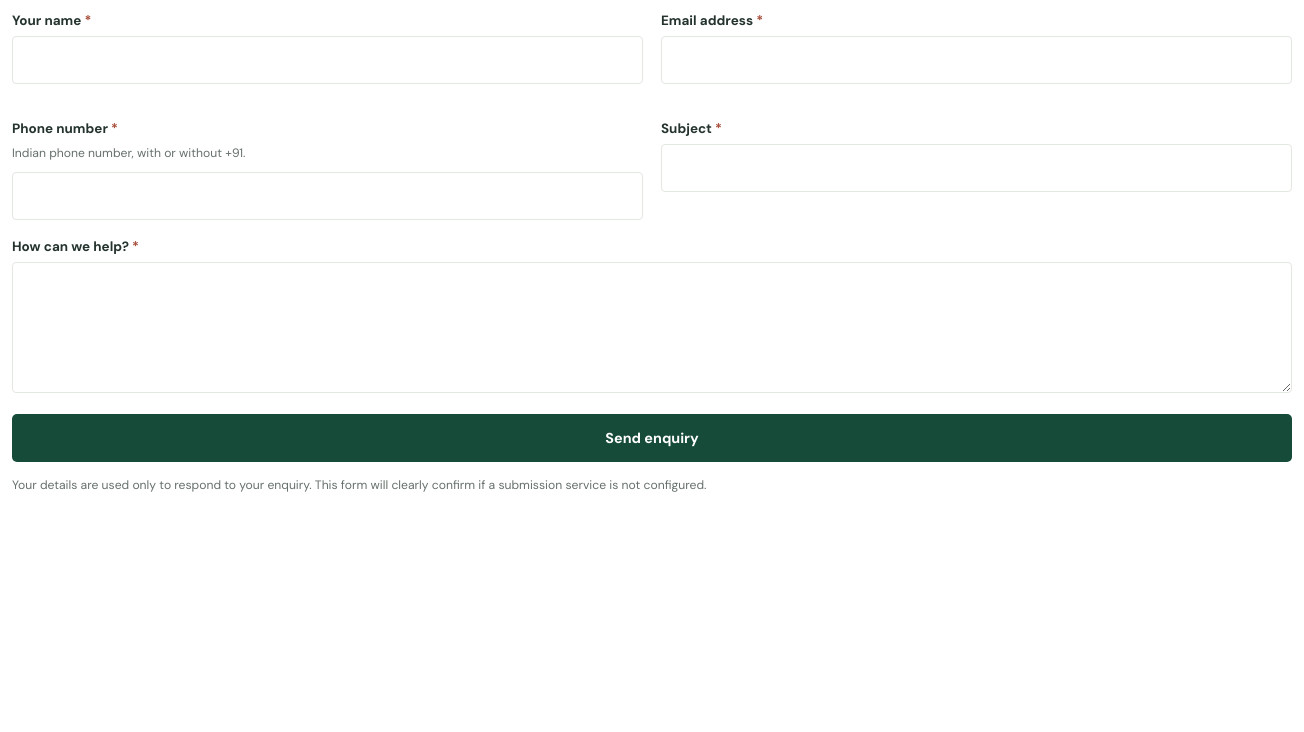
Test: contact form › requires an India-format phone number
This screenshot has width=1304, height=732.
Type "Asha Rao" into the field labelled "Your name *" at [328, 60], box [12,36,643,84]
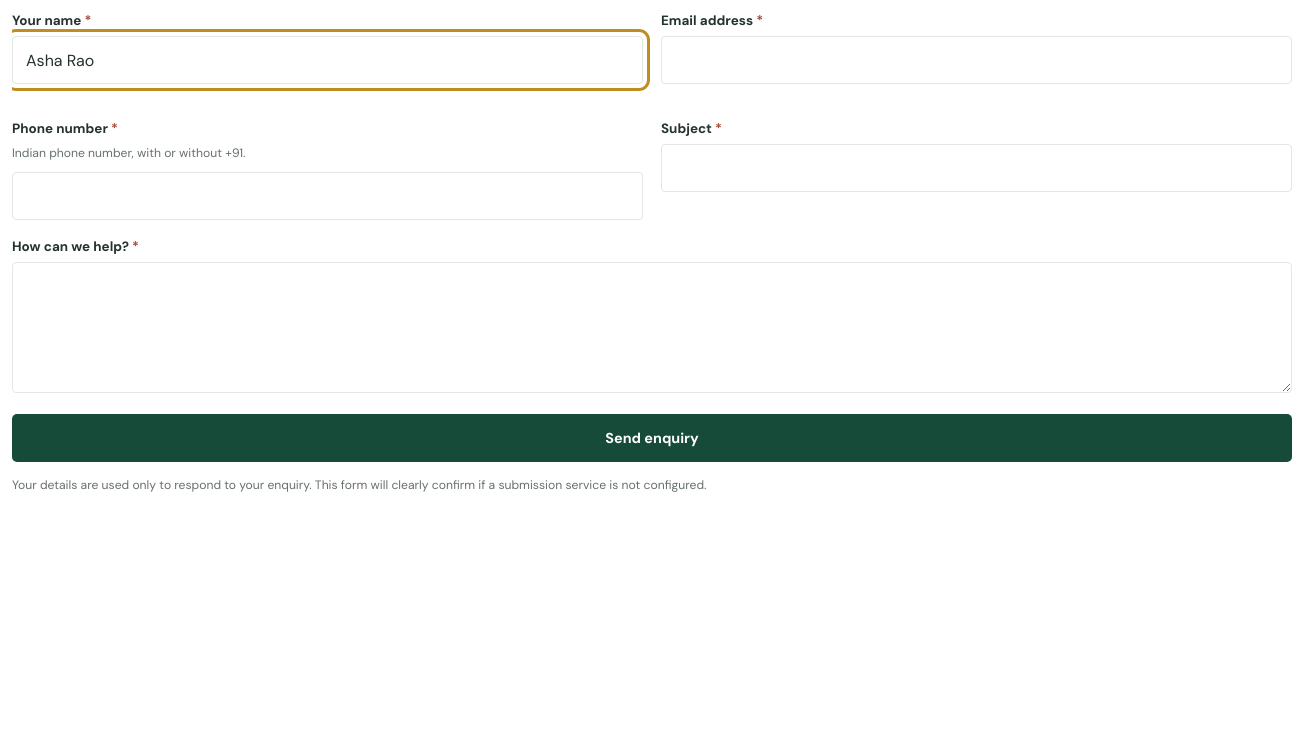
Type "asha@example.com" into the field labelled "Email address *" at [976, 60], box [661,36,1292,84]
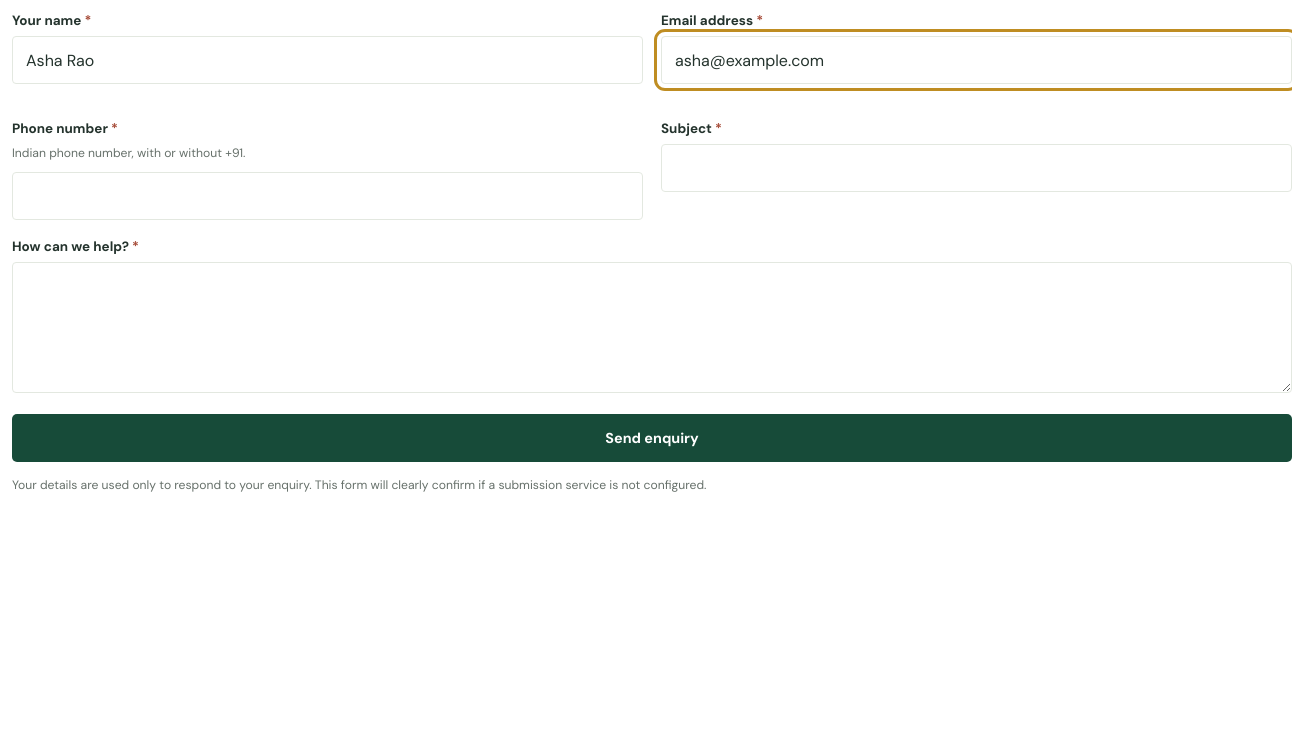
Type "12345" into the field labelled "Phone number *" at [328, 196], box [12,172,643,220]
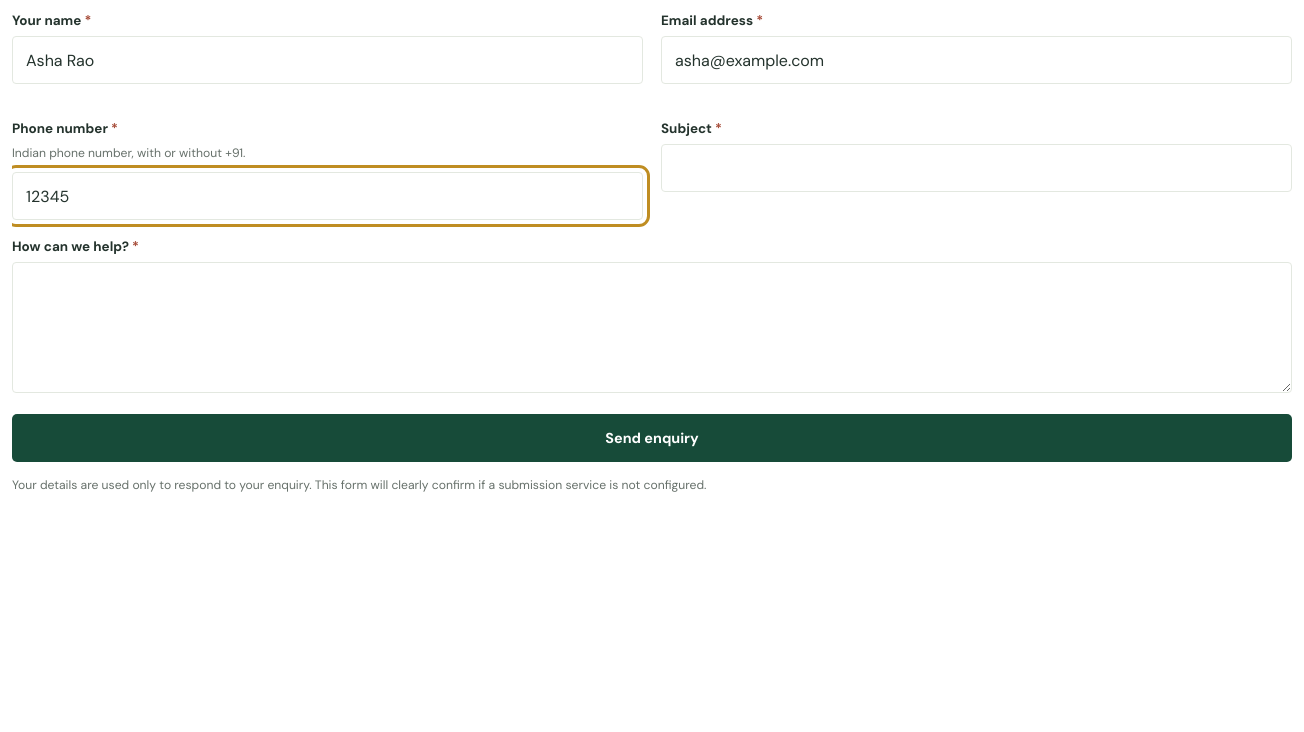
Type "Solar enquiry" into the field labelled "Subject *" at [976, 168], box [661,144,1292,192]
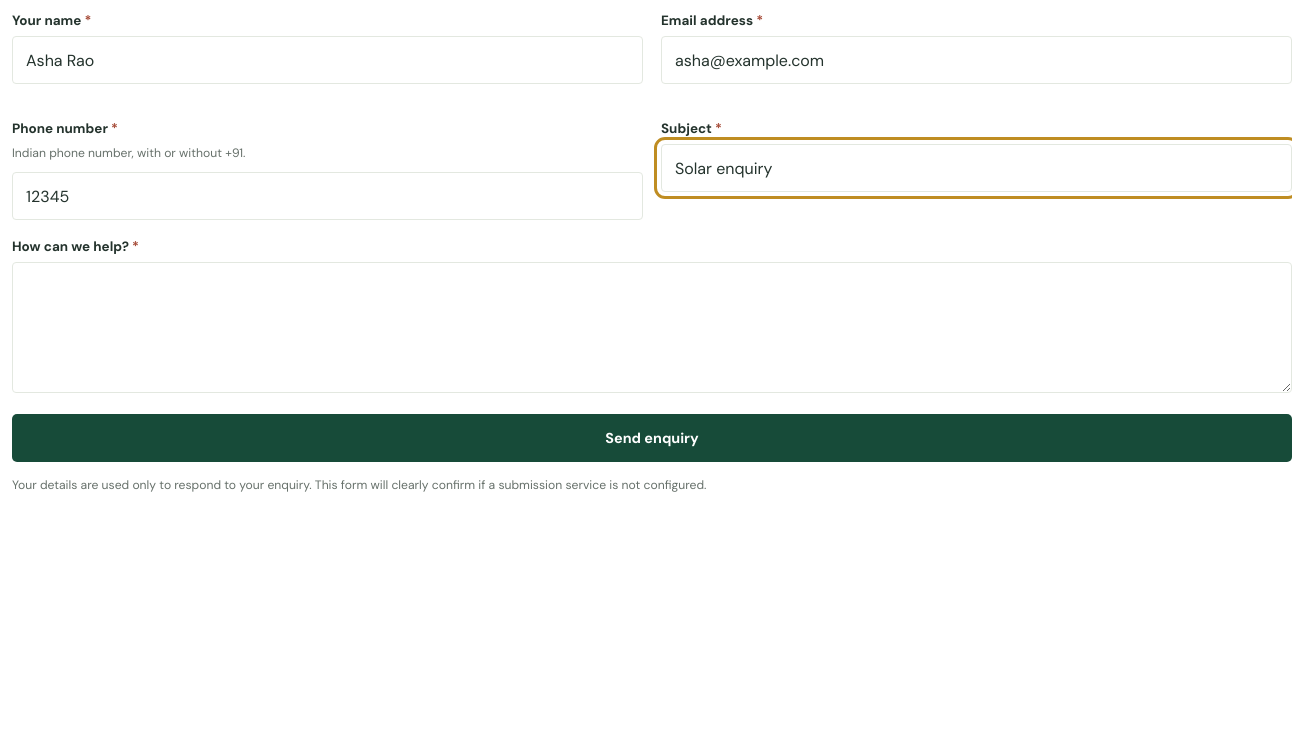
Type "Please contact me." into the text box labelled "How can we help? *" at [652, 328], box [12,262,1292,393]
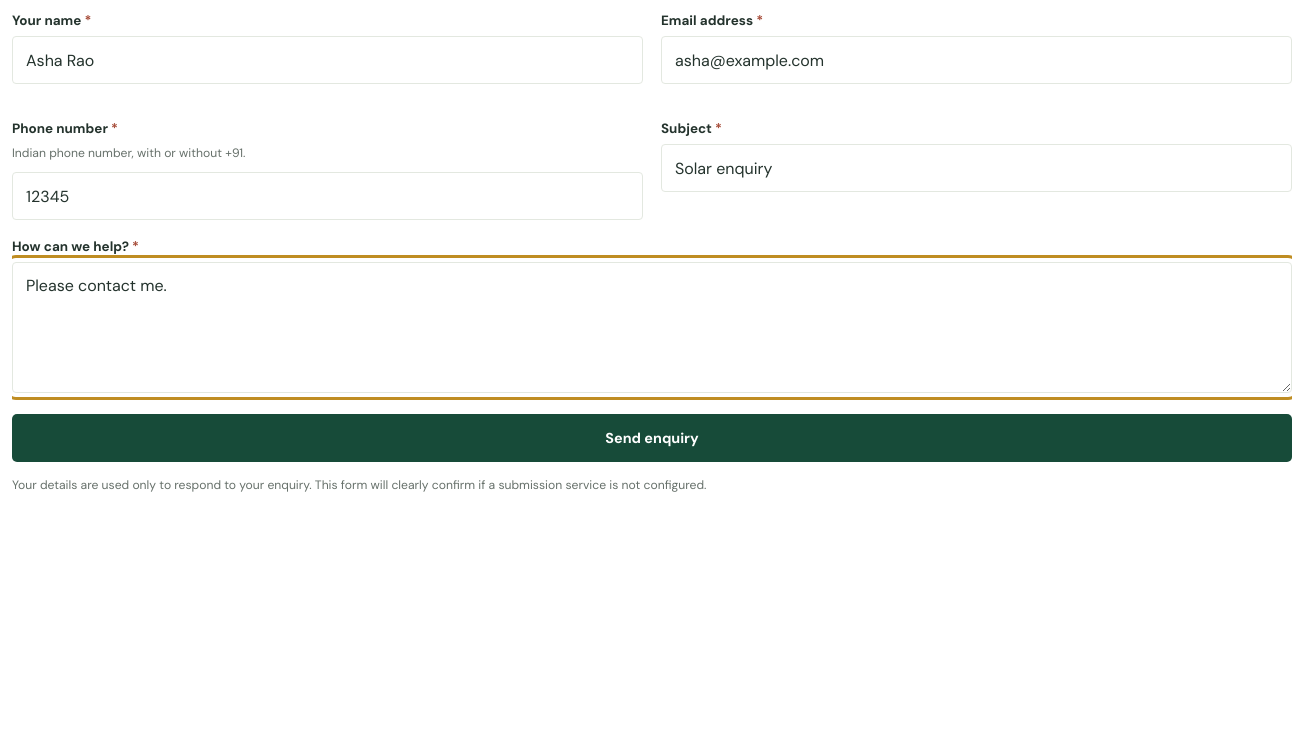
Click the button "Send enquiry" at [652, 438], box [12,414,1292,462]
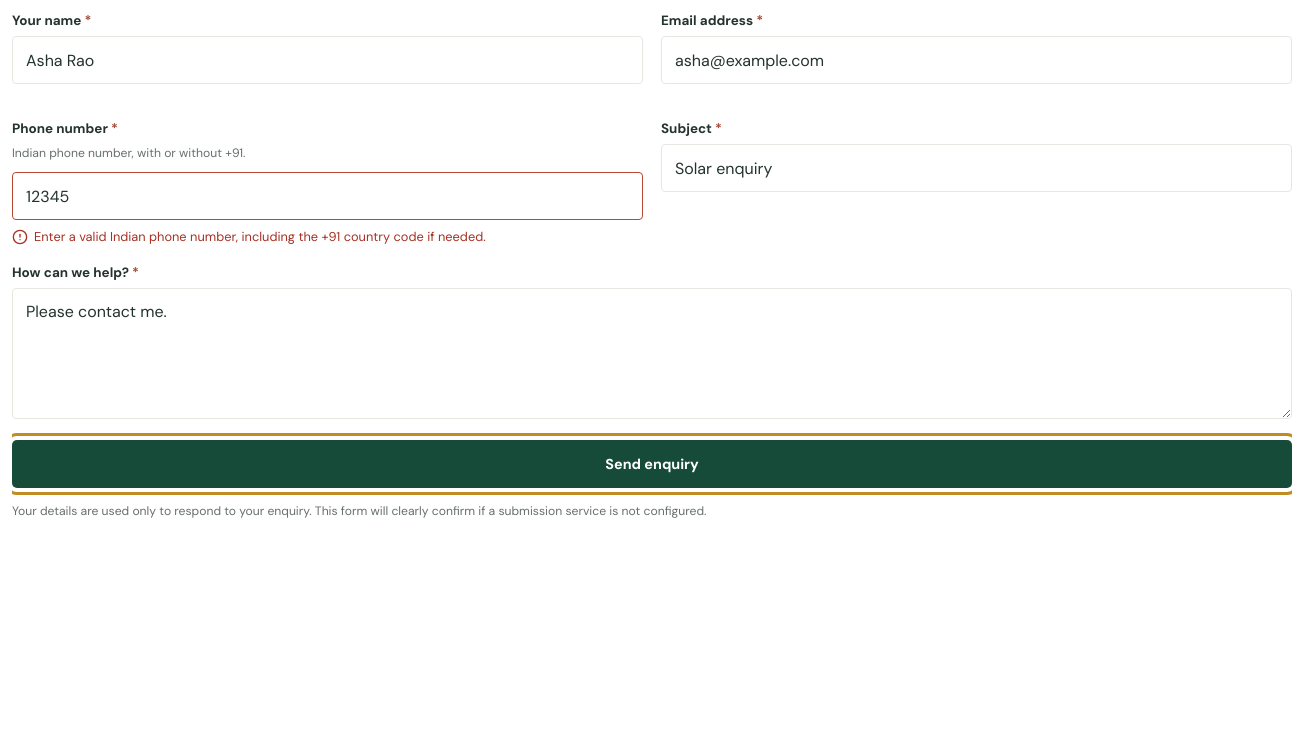
Check: the text "Enter a valid Indian phone number, including the +91 country code if needed." is shown, box [12,228,486,245]
